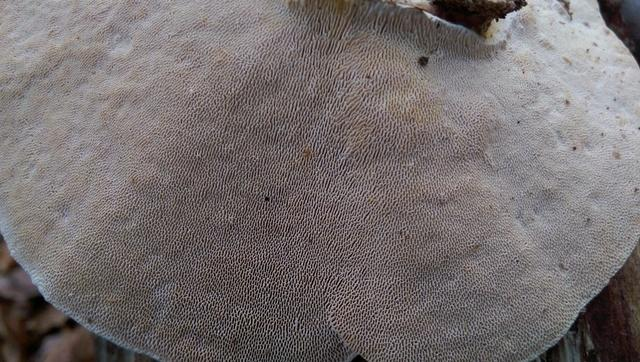Non-edible Mushroom: (1, 0, 637, 360)
